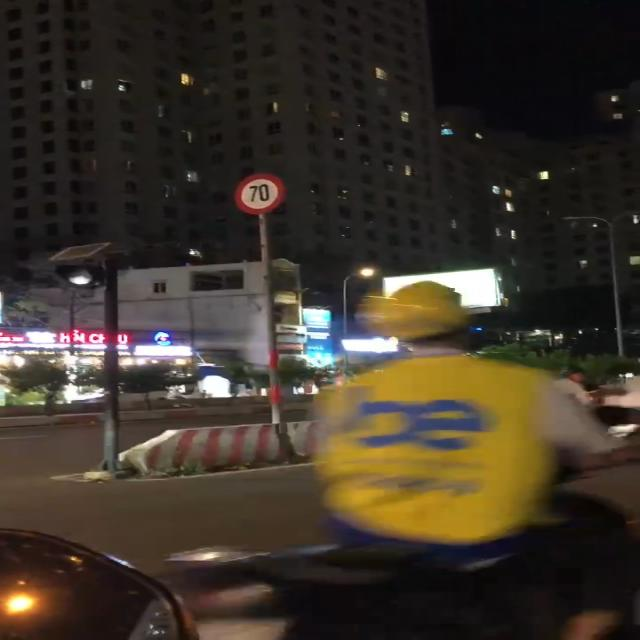Bien bao toc do toi da cho phep: (229, 171, 290, 213)
